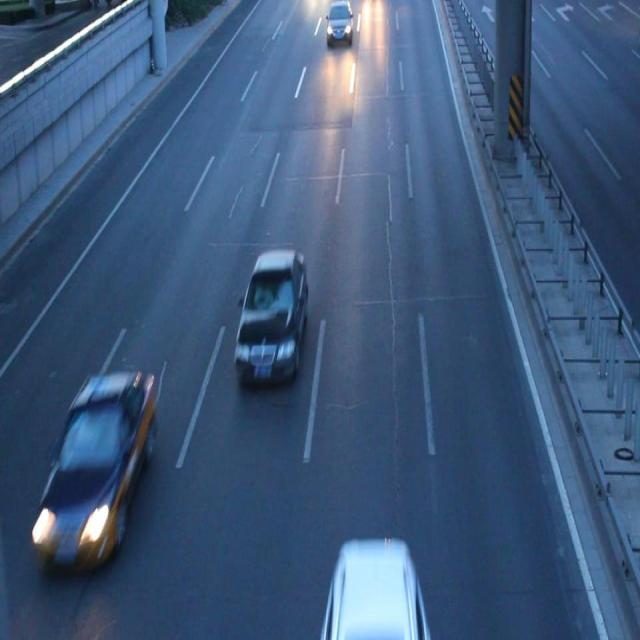car: (28, 371, 156, 572), (321, 543, 428, 640), (234, 250, 308, 381), (326, 1, 353, 43)
